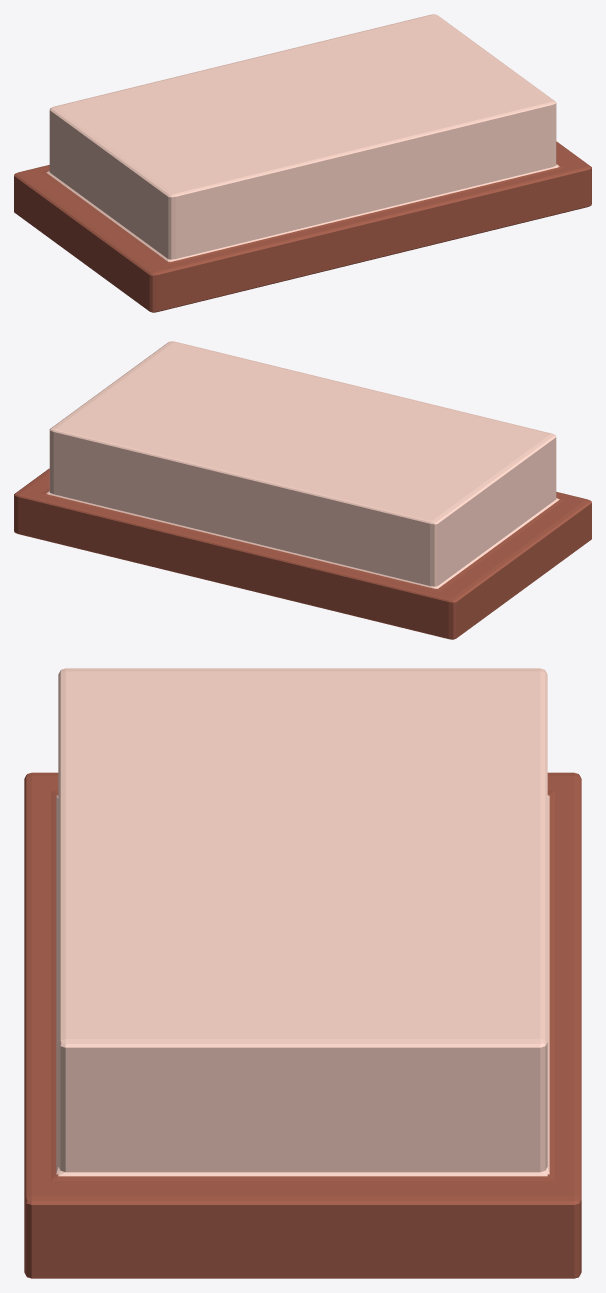
Rendered from item-stand3.fbx.
3 views of the same model, one above another, from view 1: azimuth 30°, elevation 25°; view 2: azimuth 150°, elevation 25°; view 3: azimuth 270°, elevation 25° (orthographic). The views are drawn at different scales.
Parts seen in each view (by area): view 1: Cube.008; view 2: Cube.008; view 3: Cube.008.
Boxes of the visible parts, x1,y1,x2,y2 form: Cube.008: (14,14,591,312); Cube.008: (14,341,591,639); Cube.008: (24,668,581,1278).
Bounding box in the file's own units: 1076 × 244 × 587.
